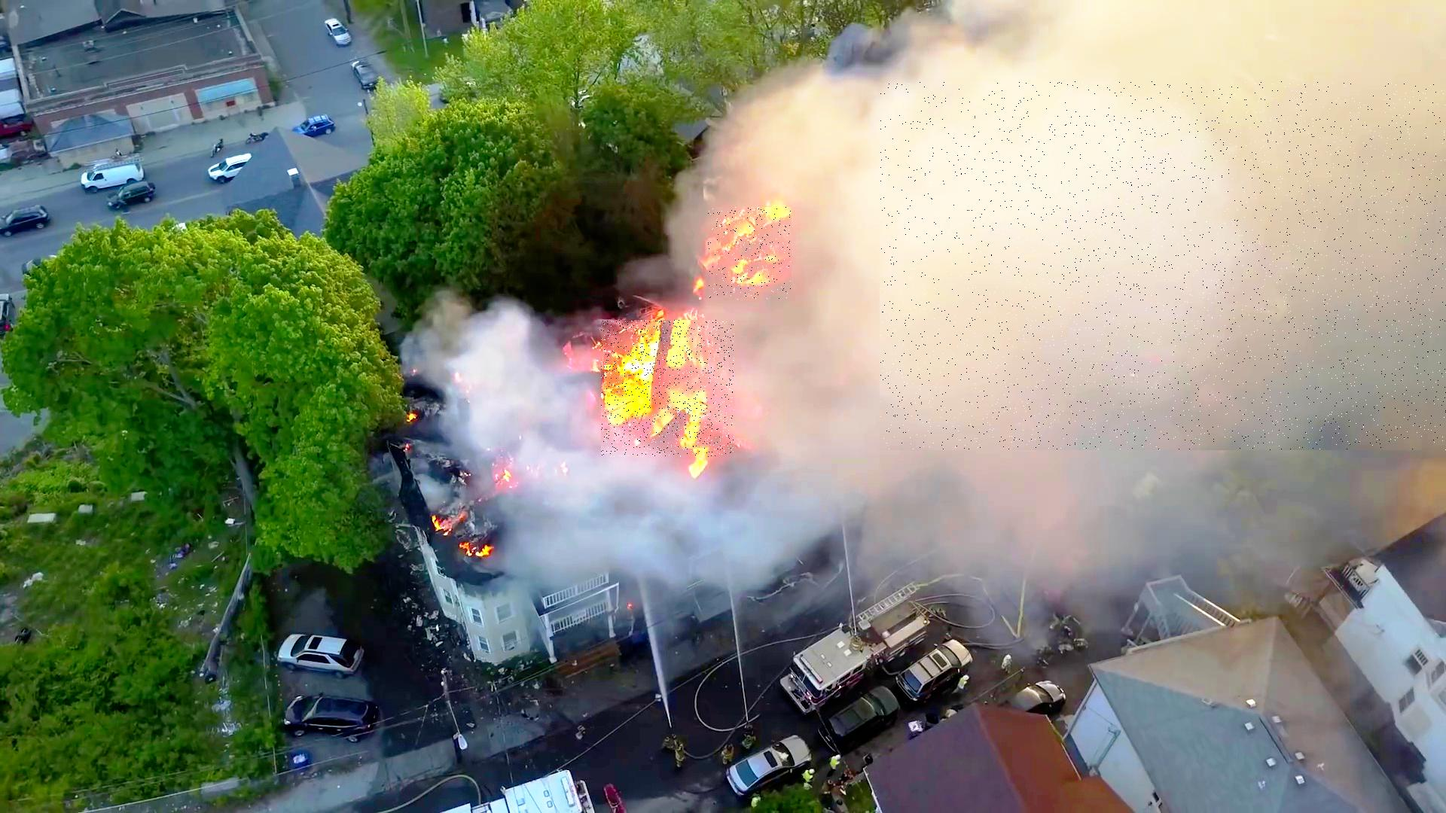fire: (601, 321, 734, 458), (708, 207, 792, 300)
smoke: (880, 81, 1446, 450)
